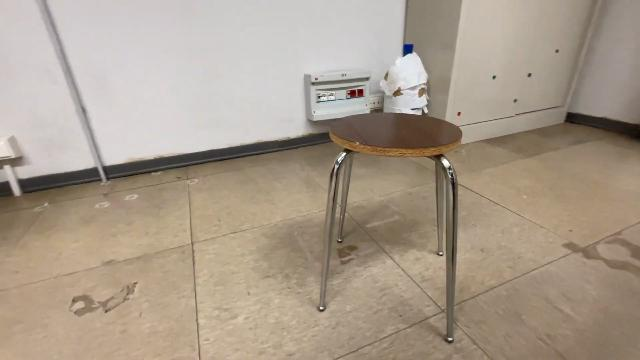Stool: (311, 111, 464, 347)
